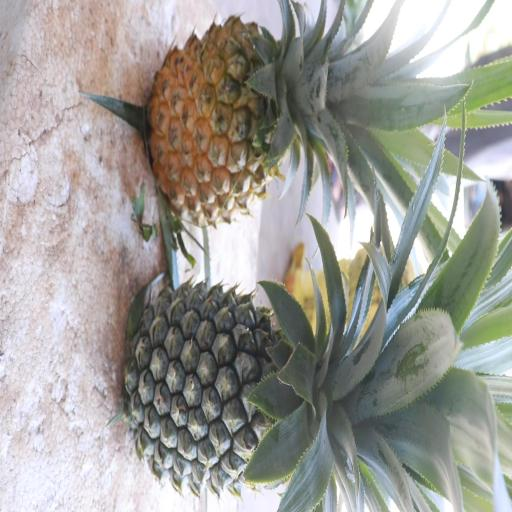Pineapple - v8 v1: (150, 14, 418, 210)
